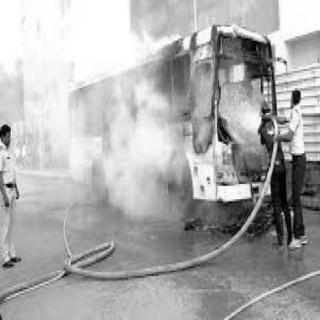Smoke: (43, 44, 211, 224)
